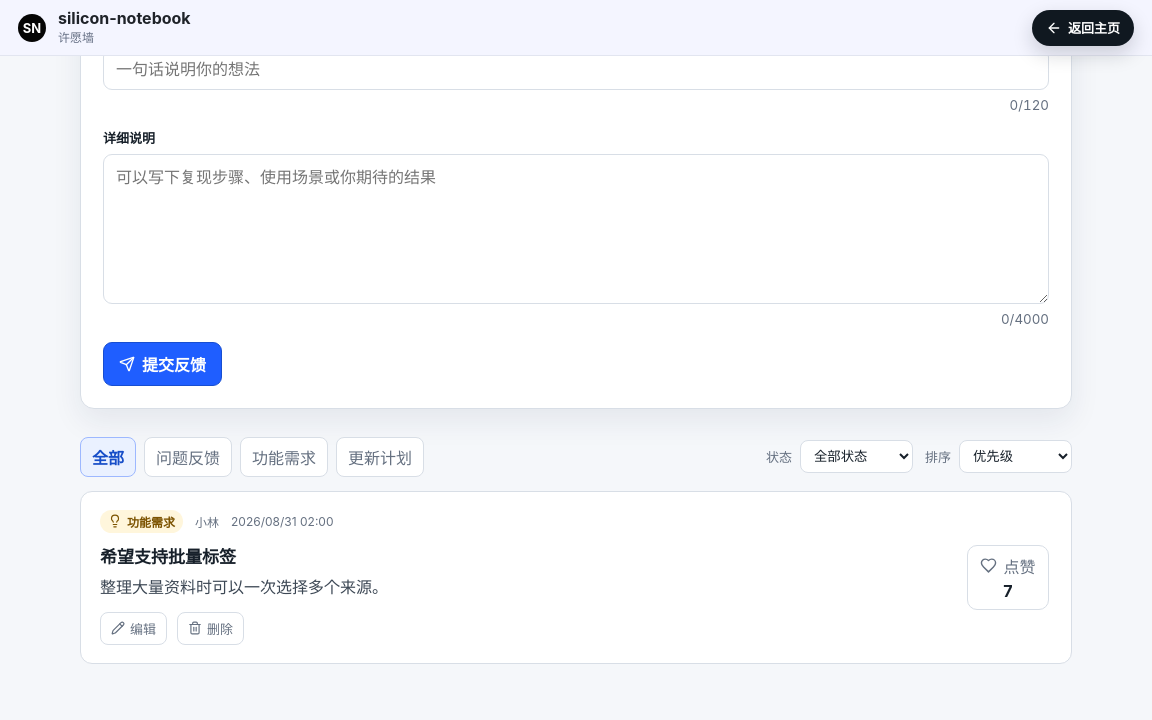
Scenario: 点赞结果在当前卡片旁即时更新
This screenshot has width=1152, height=720.
(page scrolled)
Expected: the text "希望支持批量标签" is shown, [100,547,236,567]
Click the button "点赞 7" at (1008, 577), box [967,545,1049,610]
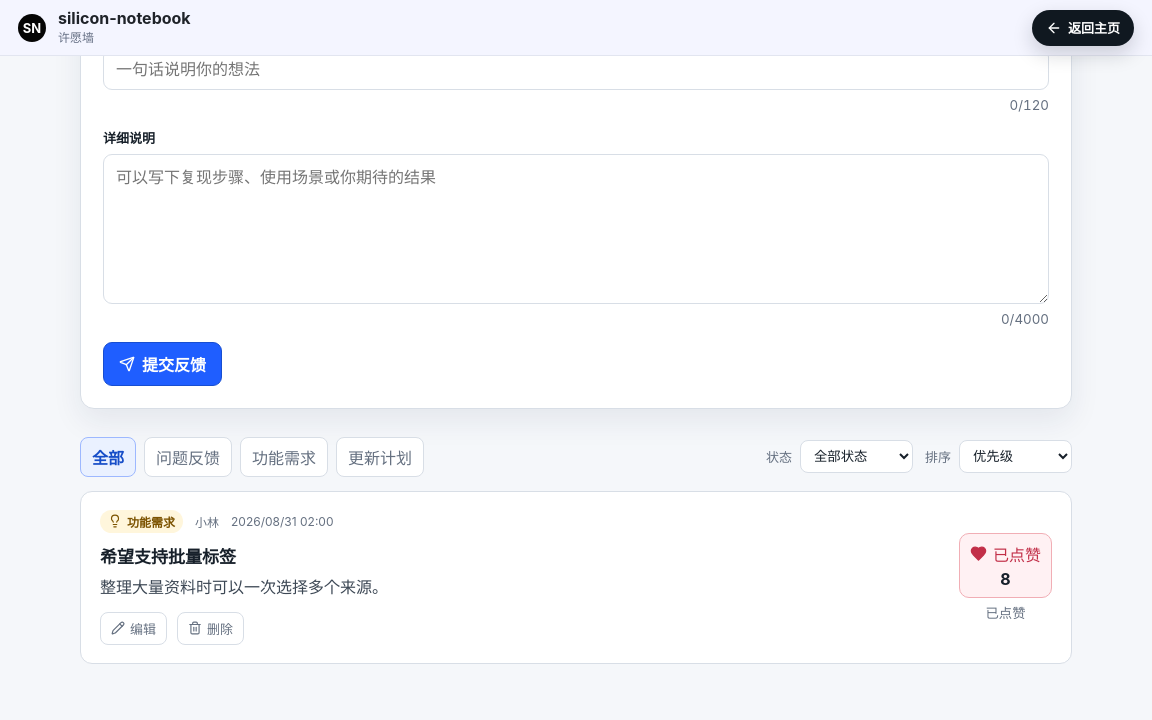
Expected: the message reads "已点赞", [986,605,1026,621]
